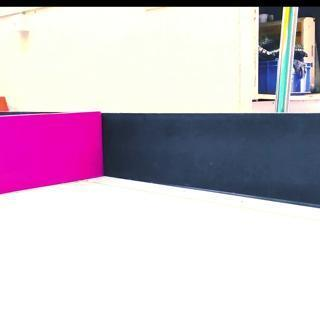xparking: (1, 116, 101, 172)
